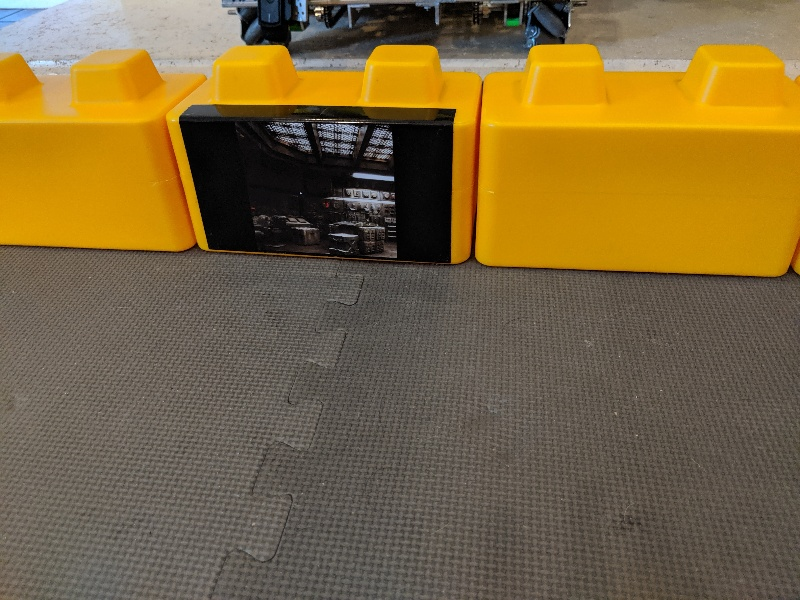Skystone: (171, 96, 466, 276)
